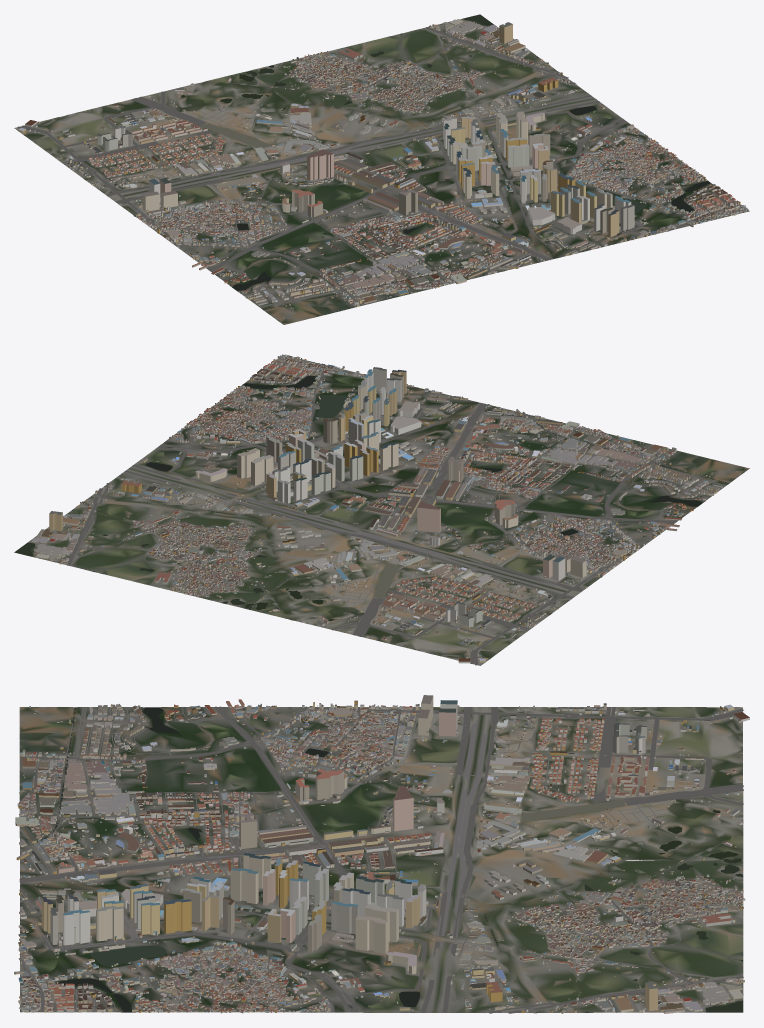
The picture shows the model from 3 angles, top to bottom: view 1: azimuth 30°, elevation 25°; view 2: azimuth 150°, elevation 25°; view 3: azimuth 270°, elevation 25°; orthographic projection. The views are drawn at different scales.
Visible parts, largest first — view 1: ground, buildings, roads, water; view 2: ground, buildings, roads, water; view 3: ground, buildings, roads, water.
Boxes of the visible parts, x1,y1,x2,y2 form: ground: (14,19,749,324); buildings: (18,19,748,322); roads: (17,27,730,307); water: (84,14,710,309); ground: (14,358,749,665); buildings: (31,354,745,663); roads: (50,362,725,665); water: (14,375,728,620); ground: (19,707,743,1013); buildings: (14,695,749,1013); roads: (18,706,743,1013); water: (27,707,742,1012).
Bounding box in the file's own units: 2865 × 138 × 2853.
